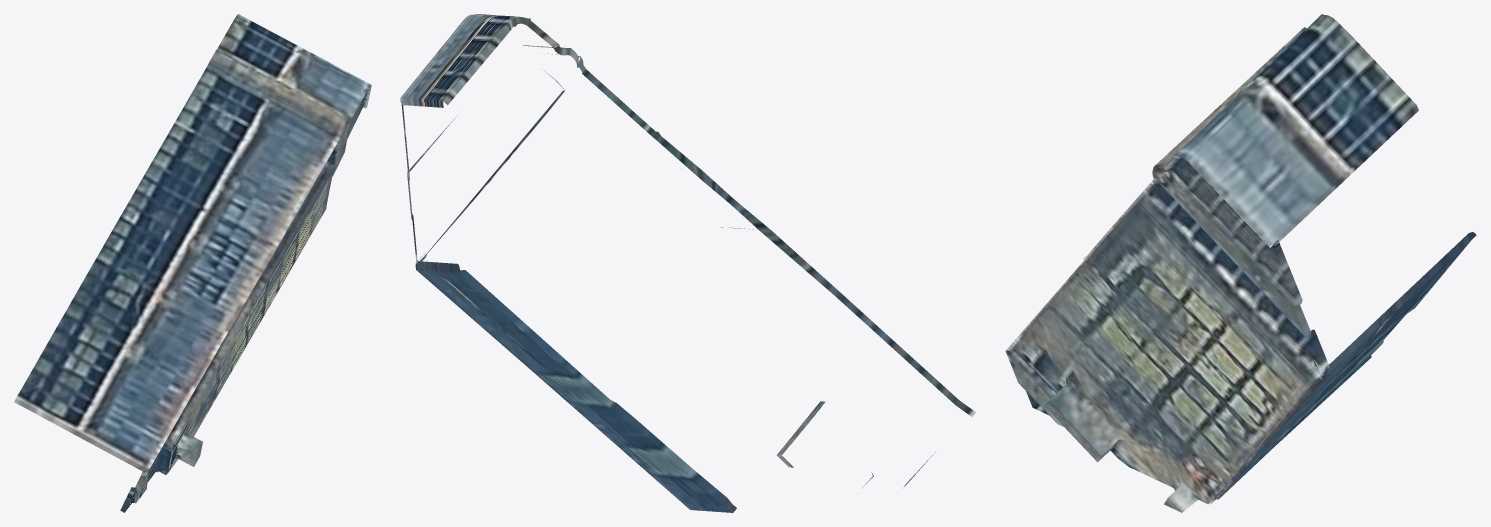
Rendered from masp_tile_14.glb.
3 views of the same model, side by side, from view 1: azimuth 30°, elevation 25°; view 2: azimuth 150°, elevation 25°; view 3: azimuth 270°, elevation 25° (orthographic). The views are drawn at different scales.
Bounding box in the file's own units: 41.53 × 38.65 × 29.5.
2 materials, 2 textured.
